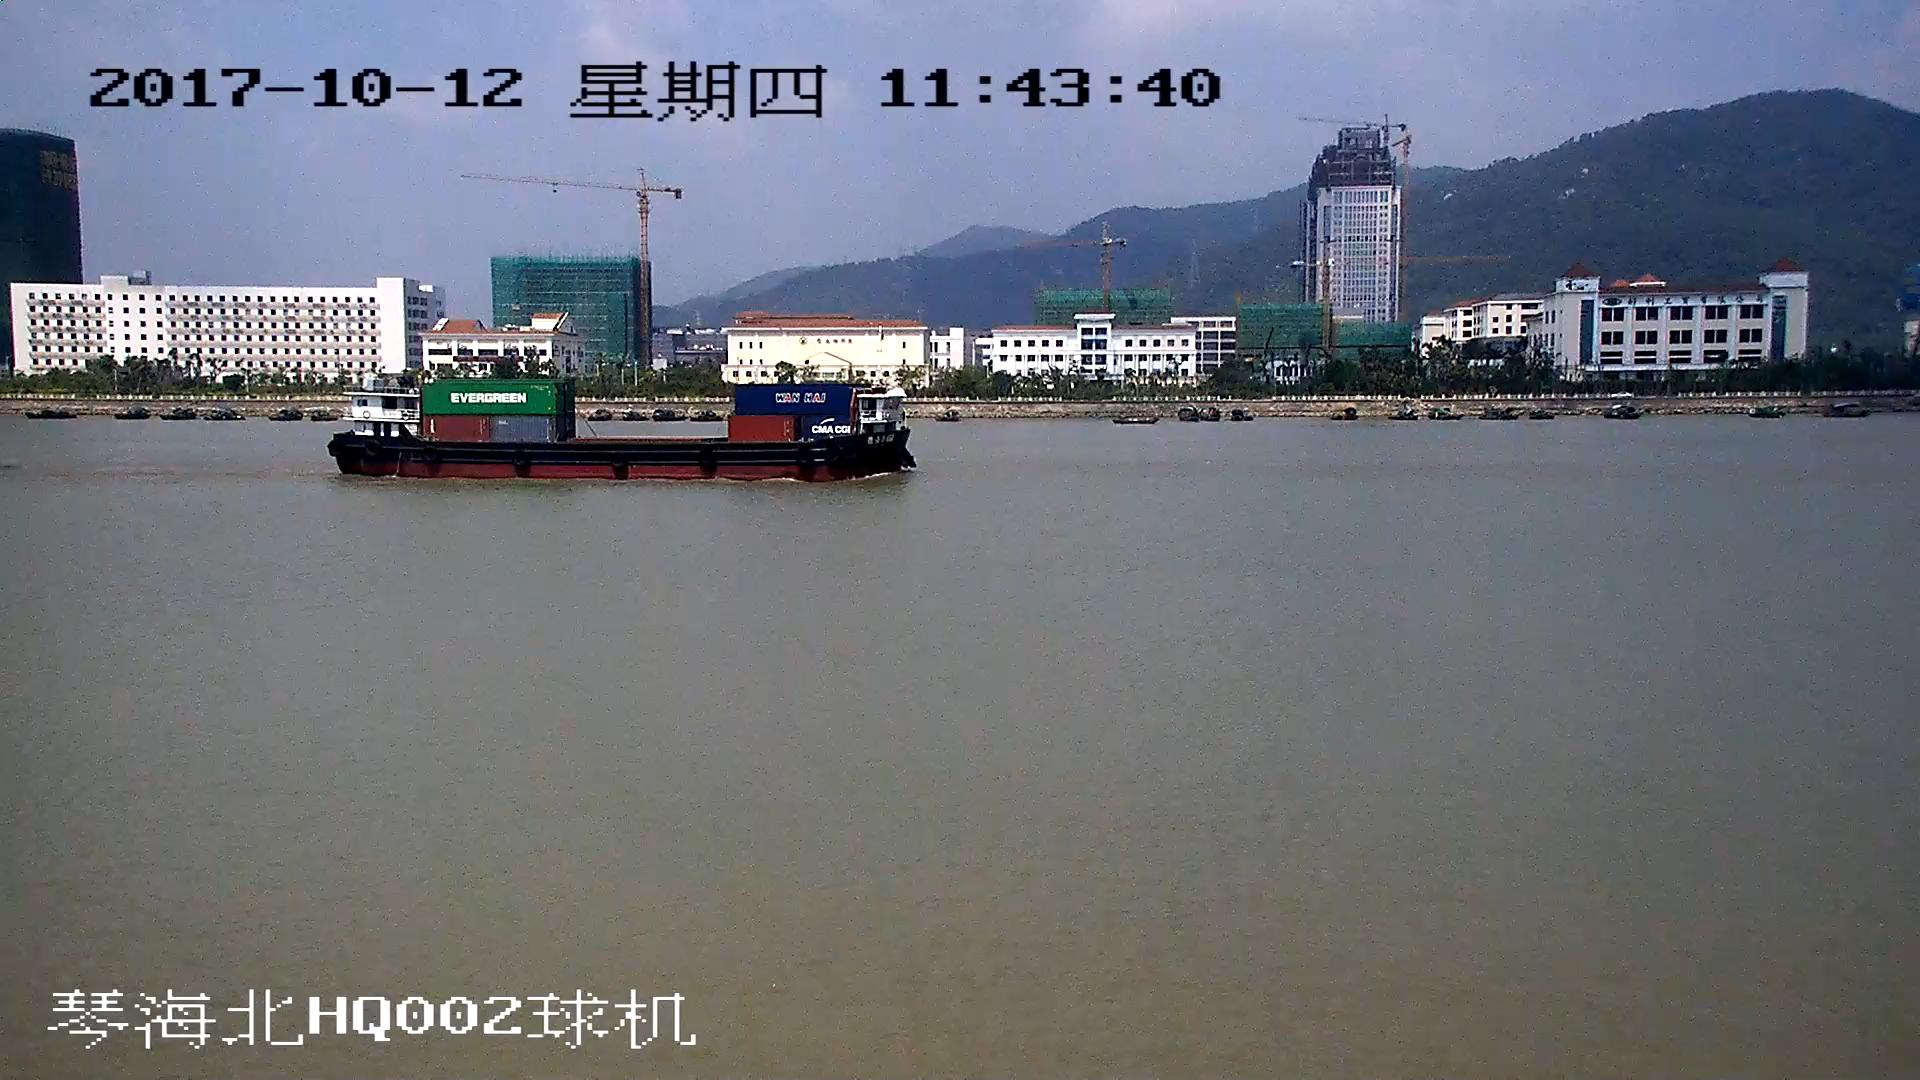container ship: (332, 375, 911, 485)
